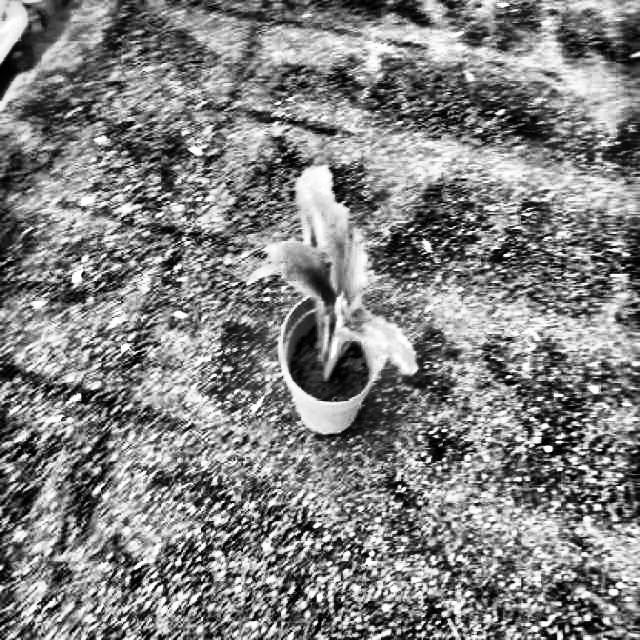plants: (253, 163, 418, 403)
